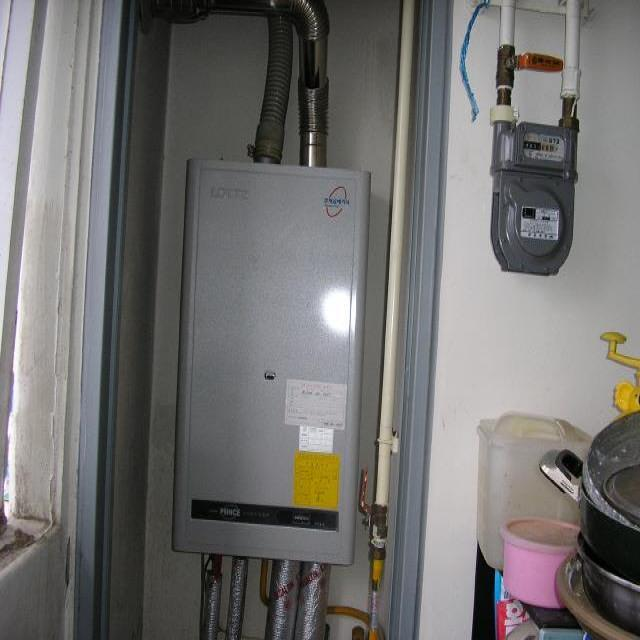Boiler: (150, 64, 388, 580)
